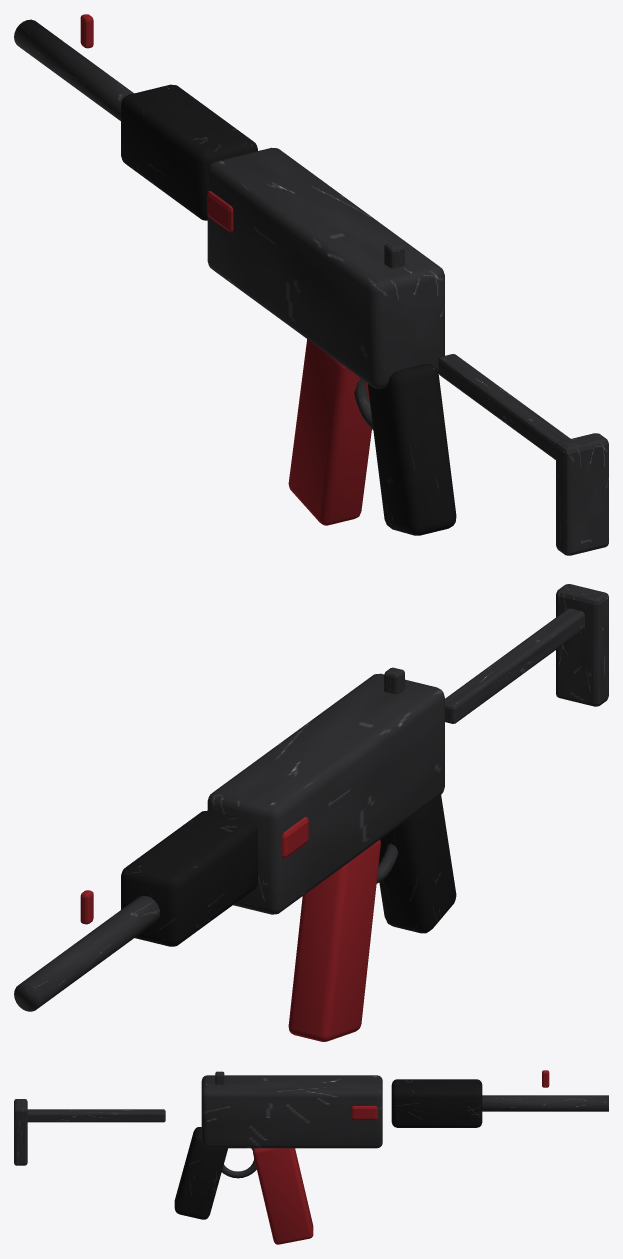
File: weapon-smg.glb
3 renders of one model, top to bottom at view 1: azimuth 30°, elevation 25°; view 2: azimuth 150°, elevation 25°; view 3: azimuth 270°, elevation 25°, orthographic. The views are drawn at different scales.
Visible parts, largest first — view 1: Cube, Cube.004, Cube.005, Cube.001, Cube.003, Cylinder, Cube.002, Cube.008; view 2: Cube, Cube.005, Cube.001, Cube.004, Cube.003, Cylinder, Cube.002, Cube.008; view 3: Cube, Cube.001, Cube.005, Cube.004, Cylinder, Cube.002, Cube.003, Cube.008, Torus.
Boxes of the visible parts, <box> form: Cube: <box>207,147,444,388</box>; Cube.004: <box>367,364,456,535</box>; Cube.005: <box>288,339,371,525</box>; Cube.001: <box>121,84,257,220</box>; Cube.003: <box>556,433,608,555</box>; Cylinder: <box>14,19,133,120</box>; Cube.002: <box>438,354,570,459</box>; Cube.008: <box>207,191,233,232</box>; Cube: <box>207,673,444,914</box>; Cube.005: <box>288,839,380,1041</box>; Cube.001: <box>121,810,257,946</box>; Cube.004: <box>378,795,456,933</box>; Cube.003: <box>556,584,608,706</box>; Cylinder: <box>14,895,159,1011</box>; Cube.002: <box>445,608,584,723</box>; Cube.008: <box>282,817,308,858</box>; Cube: <box>201,1075,382,1148</box>; Cube.001: <box>391,1079,482,1127</box>; Cube.005: <box>253,1148,313,1244</box>; Cube.004: <box>174,1127,227,1219</box>; Cylinder: <box>482,1095,608,1111</box>; Cube.002: <box>27,1109,165,1122</box>; Cube.003: <box>14,1099,27,1165</box>; Cube.008: <box>351,1106,377,1120</box>; Torus: <box>222,1148,256,1178</box>.
Size of the model in its own units: 0.054 by 0.2073 by 0.6575.
3 materials, 2 textured.
